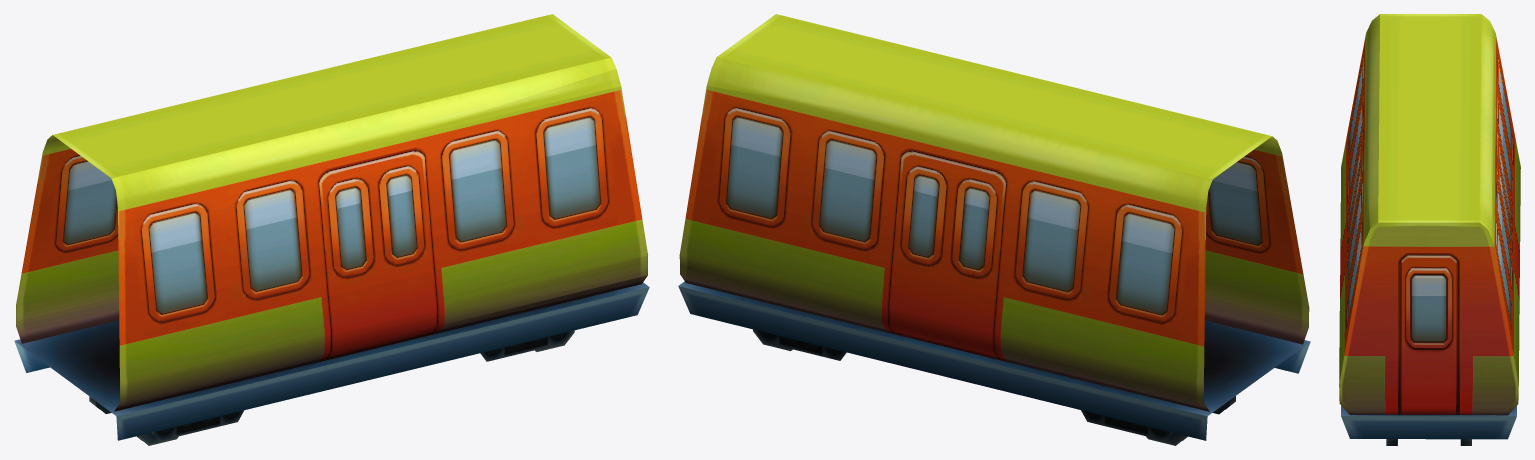
File: train.glb
3 views of the same model, side by side, from view 1: azimuth 30°, elevation 25°; view 2: azimuth 150°, elevation 25°; view 3: azimuth 270°, elevation 25° (orthographic). The views are drawn at different scales.
Parts seen in each view (by area): view 1: Object_9; view 2: Object_9; view 3: Object_9.
Boxes of the visible parts, <box> form: Object_9: <box>14,14,649,445</box>; Object_9: <box>678,14,1310,445</box>; Object_9: <box>1339,14,1520,445</box>.
Bounding box in the file's own units: 13.77 × 6.94 × 4.75.
1 material, 1 textured.
